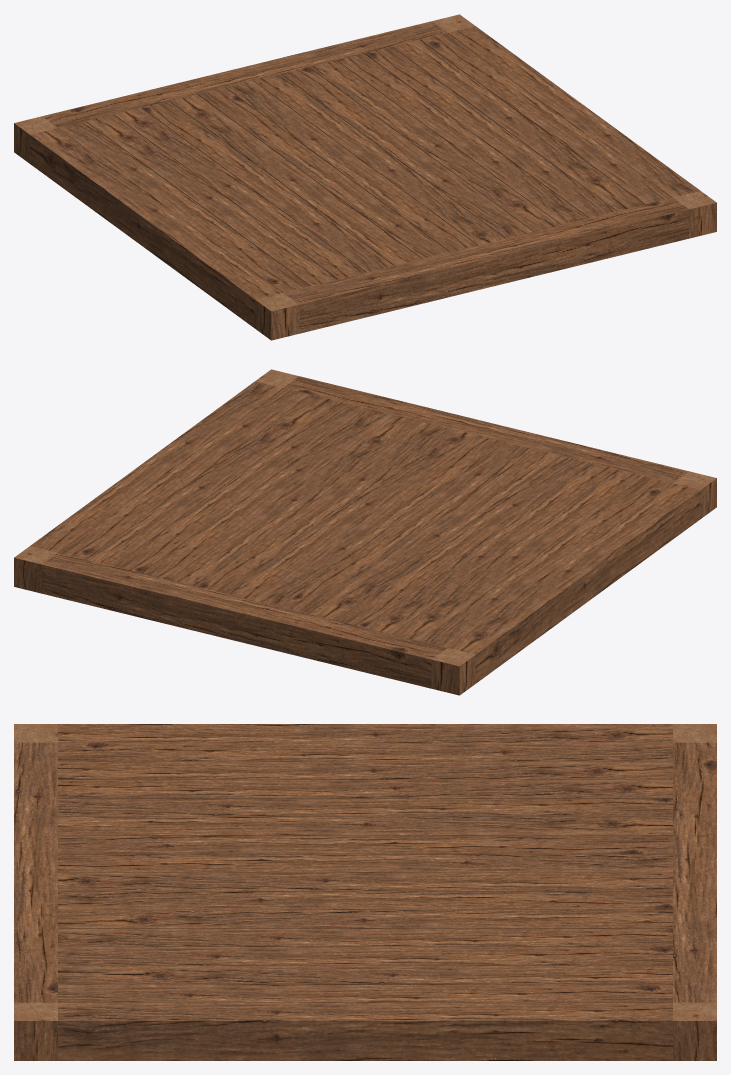
The model's file is TimberFloor_4.00Wx0.25Hx4.00D_UV1.fbx.
The picture shows the model from 3 angles, top to bottom: view 1: azimuth 30°, elevation 25°; view 2: azimuth 150°, elevation 25°; view 3: azimuth 270°, elevation 25°; orthographic projection. The views are drawn at different scales.
Parts seen in each view (by area): view 1: Modular_TimberFloor_UV1_Export; view 2: Modular_TimberFloor_UV1_Export; view 3: Modular_TimberFloor_UV1_Export.
Part boxes in pixels (left/top/right/bottom): Modular_TimberFloor_UV1_Export: left=14, top=14, right=716, bottom=340; Modular_TimberFloor_UV1_Export: left=14, top=369, right=716, bottom=695; Modular_TimberFloor_UV1_Export: left=14, top=724, right=716, bottom=1060.
Size of the model in its own units: 4 by 0.25 by 4.
